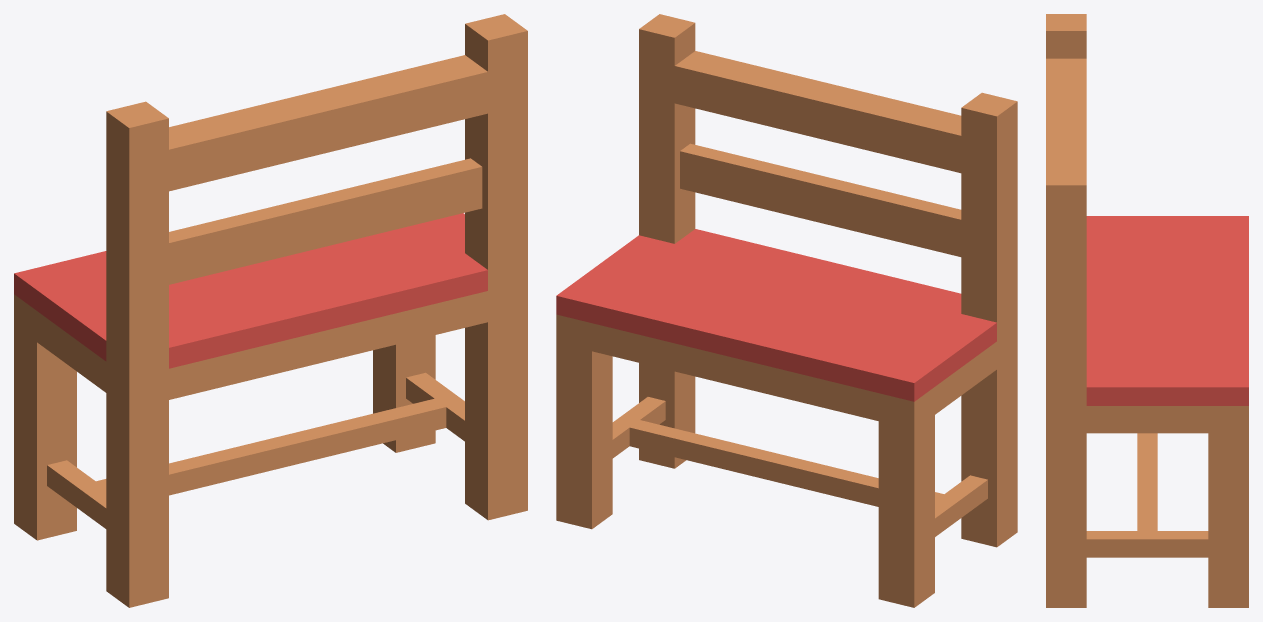
File: Bench Cushion.glb
3 renders of one model, left to right at view 1: azimuth 30°, elevation 25°; view 2: azimuth 150°, elevation 25°; view 3: azimuth 270°, elevation 25°, orthographic. The views are drawn at different scales.
Parts seen in each view (by area): view 1: benchCushion; view 2: benchCushion; view 3: benchCushion.
Part boxes in pixels (bbox=[...]): benchCushion: bbox=[14, 14, 527, 607]; benchCushion: bbox=[556, 14, 1017, 607]; benchCushion: bbox=[1046, 14, 1248, 607].
Size of the model in its own units: 0.4 by 0.46 by 0.2.
